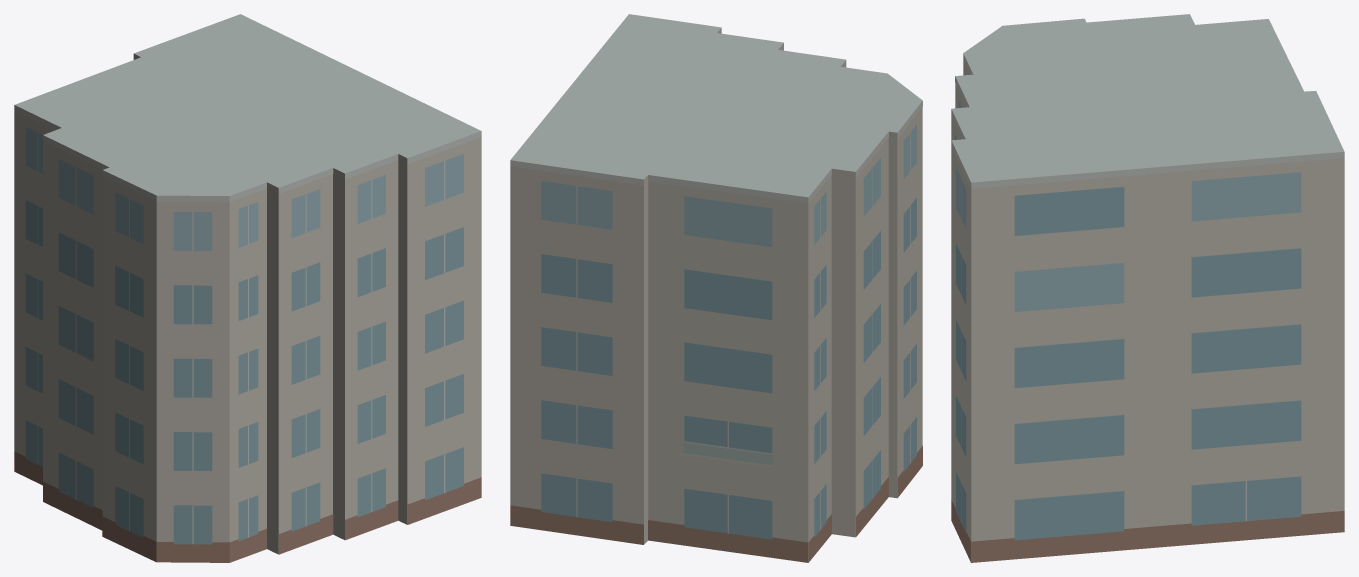
The model's file is survey-upis-32586977.glb.
3 views of the same model, side by side, from view 1: azimuth 30°, elevation 25°; view 2: azimuth 150°, elevation 25°; view 3: azimuth 270°, elevation 25° (orthographic). The views are drawn at different scales.
Parts seen in each view (by area): view 1: survey-upis-32586977.tmp; view 2: survey-upis-32586977.tmp; view 3: survey-upis-32586977.tmp.
Part boxes in pixels (x1=…): survey-upis-32586977.tmp: x1=14, y1=14, x2=481, y2=562; survey-upis-32586977.tmp: x1=510, y1=14, x2=922, y2=562; survey-upis-32586977.tmp: x1=951, y1=14, x2=1344, y2=562.
Bounding box in the file's own units: 13.88 × 14.6 × 13.69.
